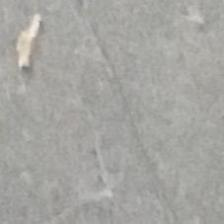Non_Crack: (12, 68, 210, 203)
